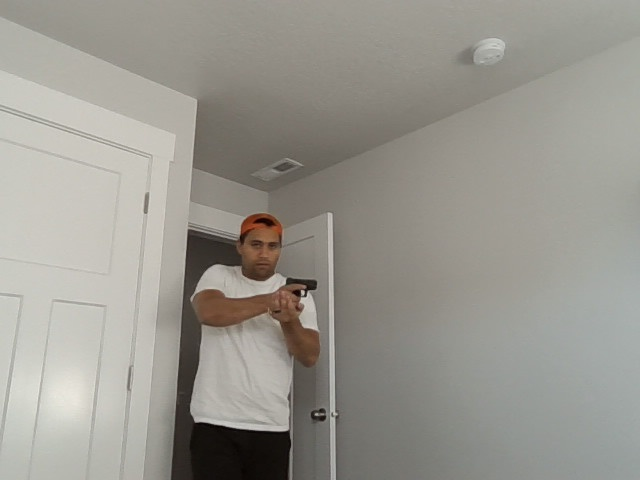handgun: (284, 276, 318, 298)
